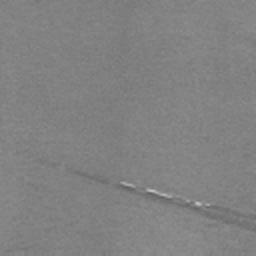Finishing roll printing: (182, 198, 256, 232), (44, 159, 108, 186), (145, 188, 177, 200), (116, 178, 138, 189)
